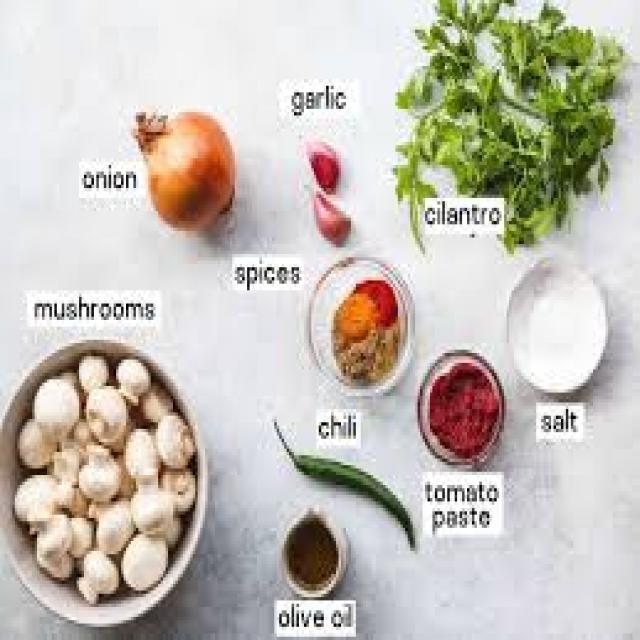Mushroom: (2, 344, 203, 610)
Onion: (131, 105, 245, 248)
